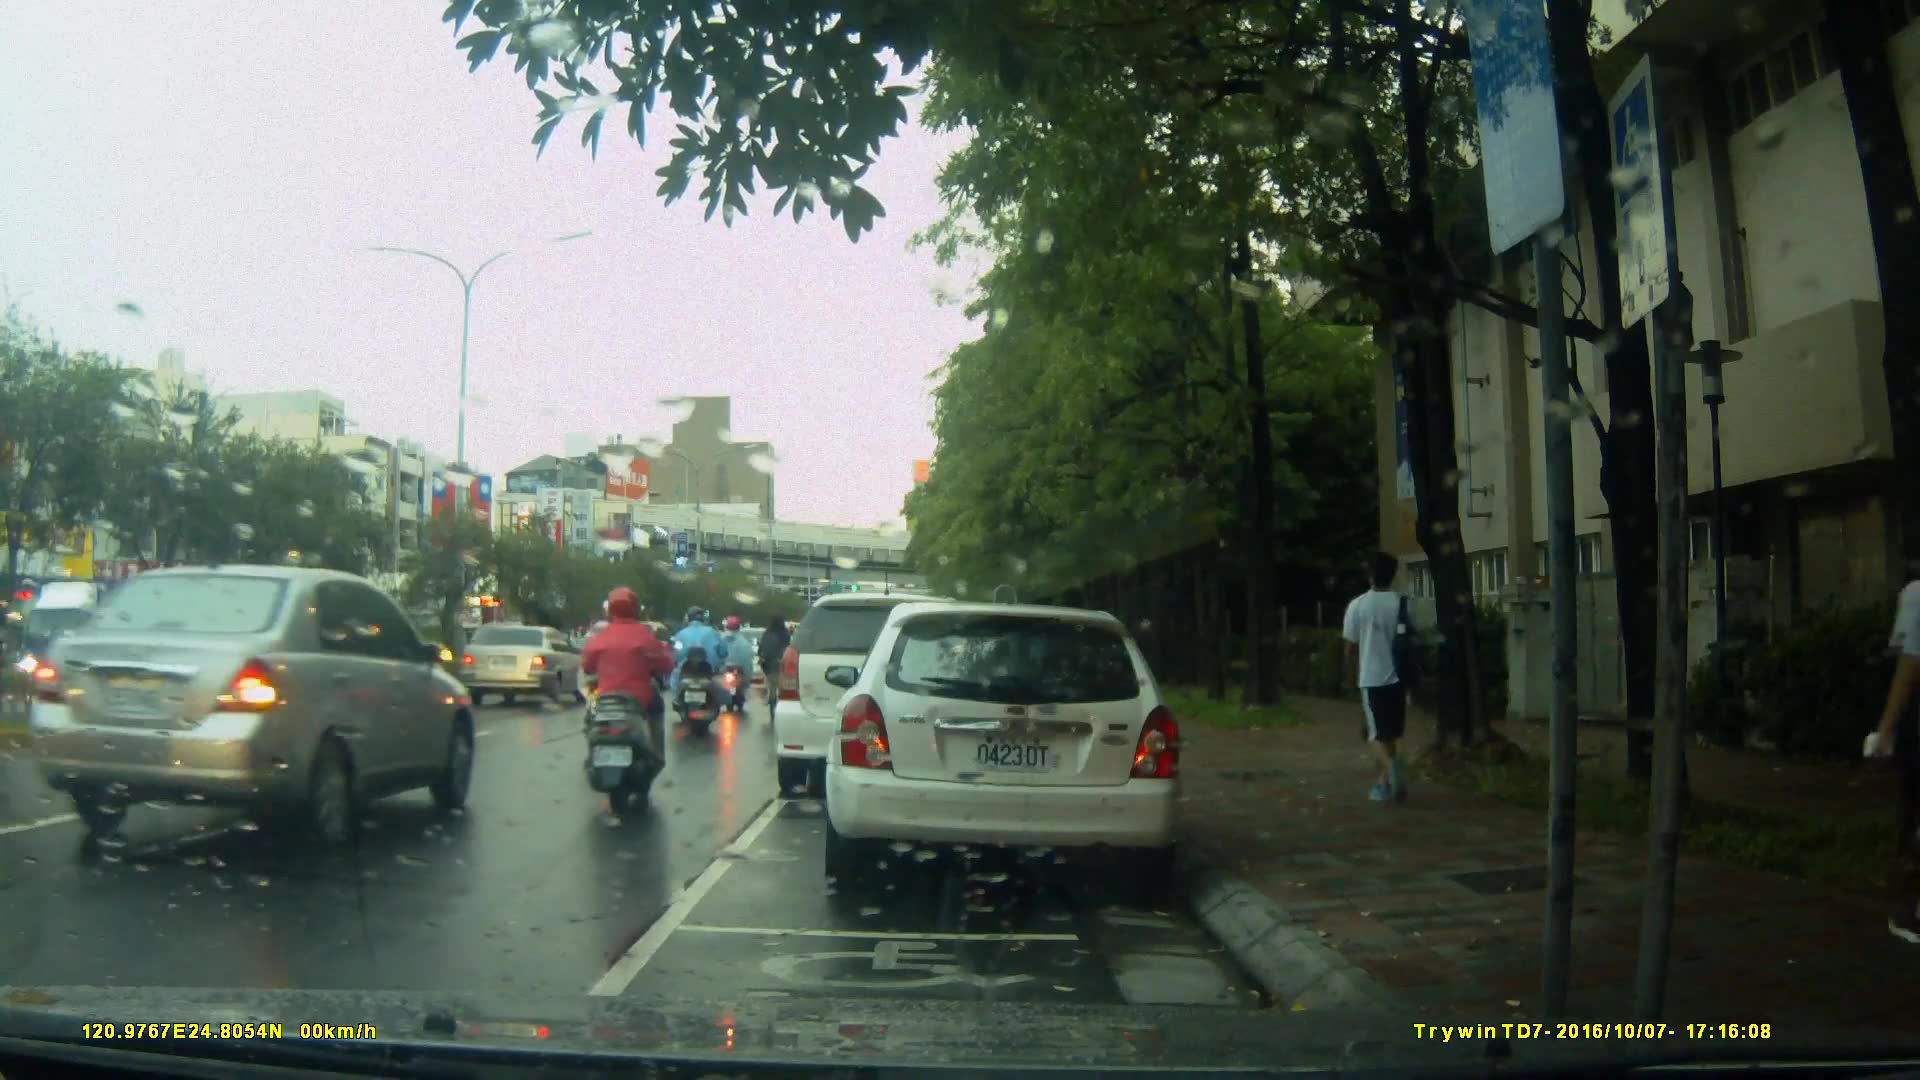pedestrian: (1854, 502, 1920, 940), (1341, 546, 1438, 825)
rider: (568, 588, 663, 818), (583, 602, 643, 768), (668, 607, 730, 741), (715, 612, 760, 714), (761, 610, 797, 730)
vehicle: (17, 562, 477, 858), (822, 604, 1188, 882), (774, 595, 995, 802), (461, 623, 590, 711)
